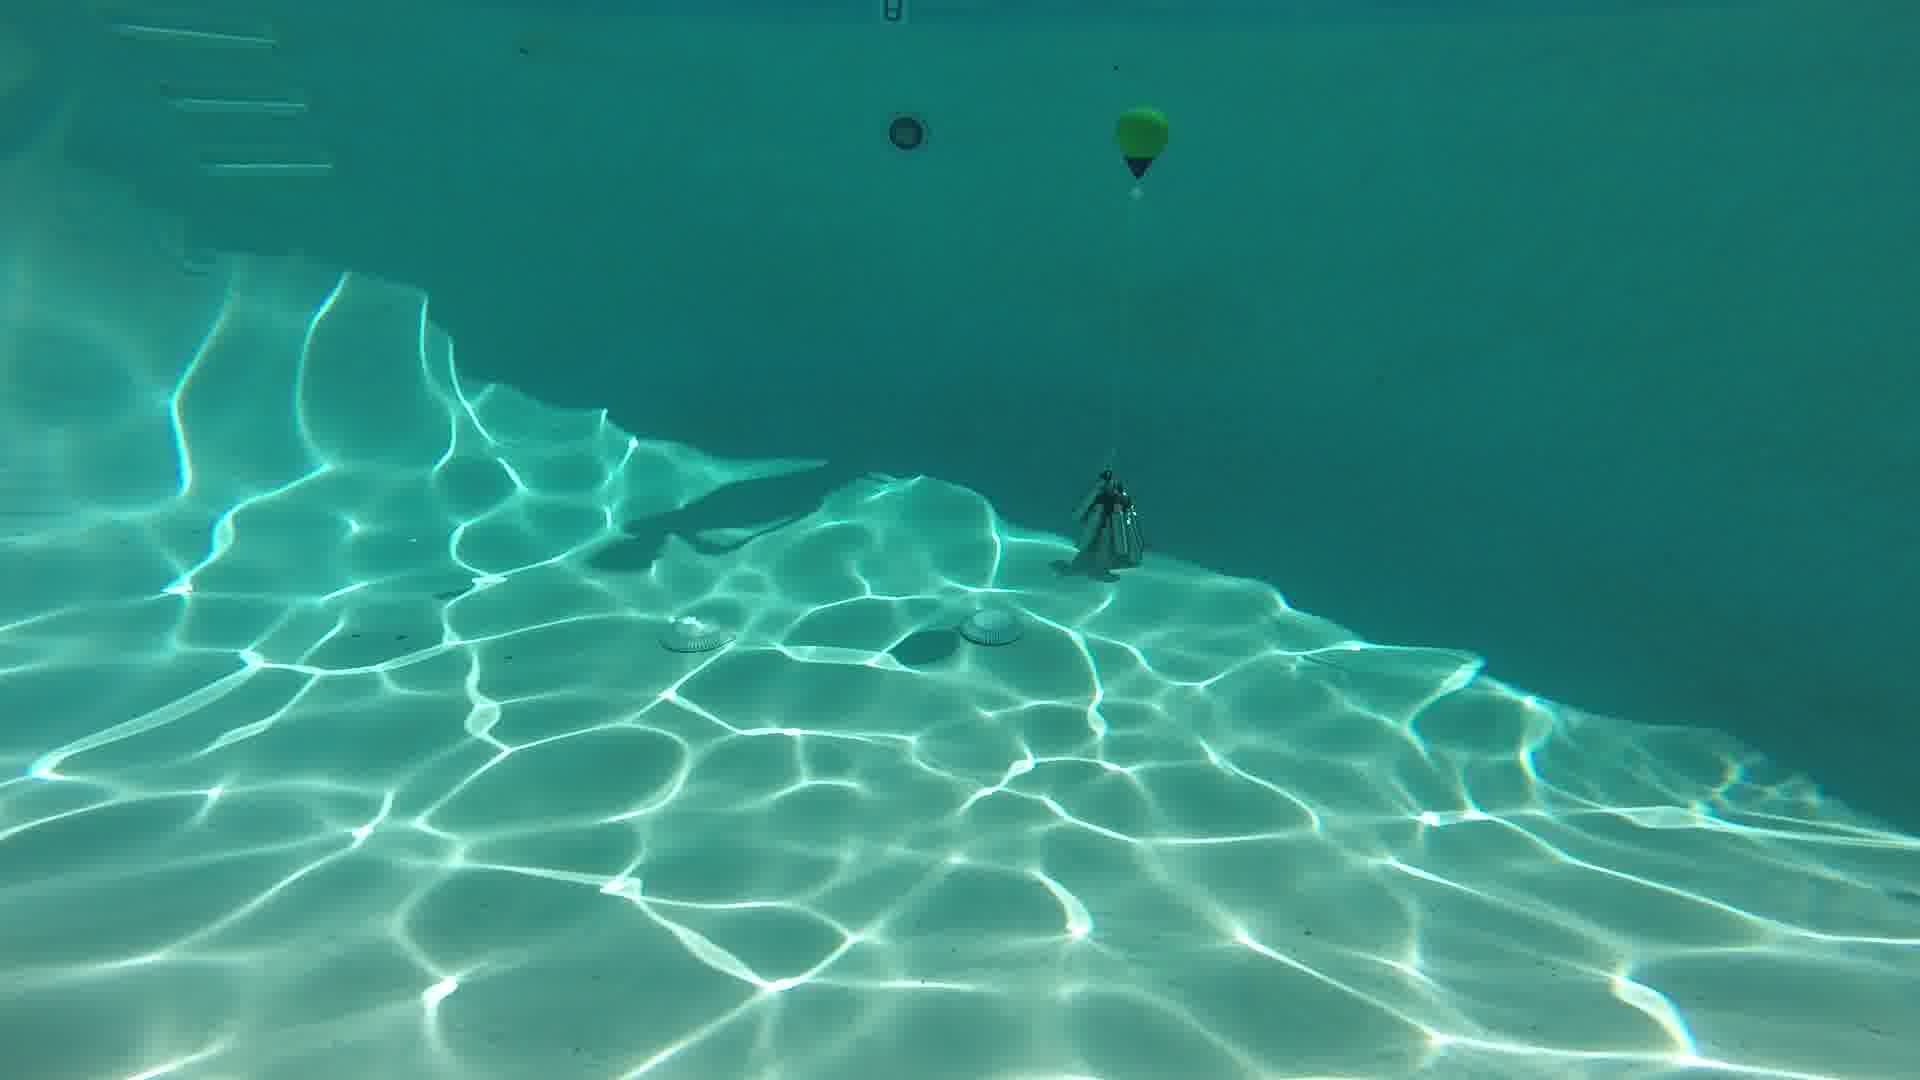yellow_buoy: (1114, 105, 1168, 179)
